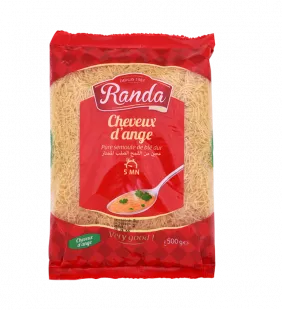RANDA: (43, 19, 221, 293)
